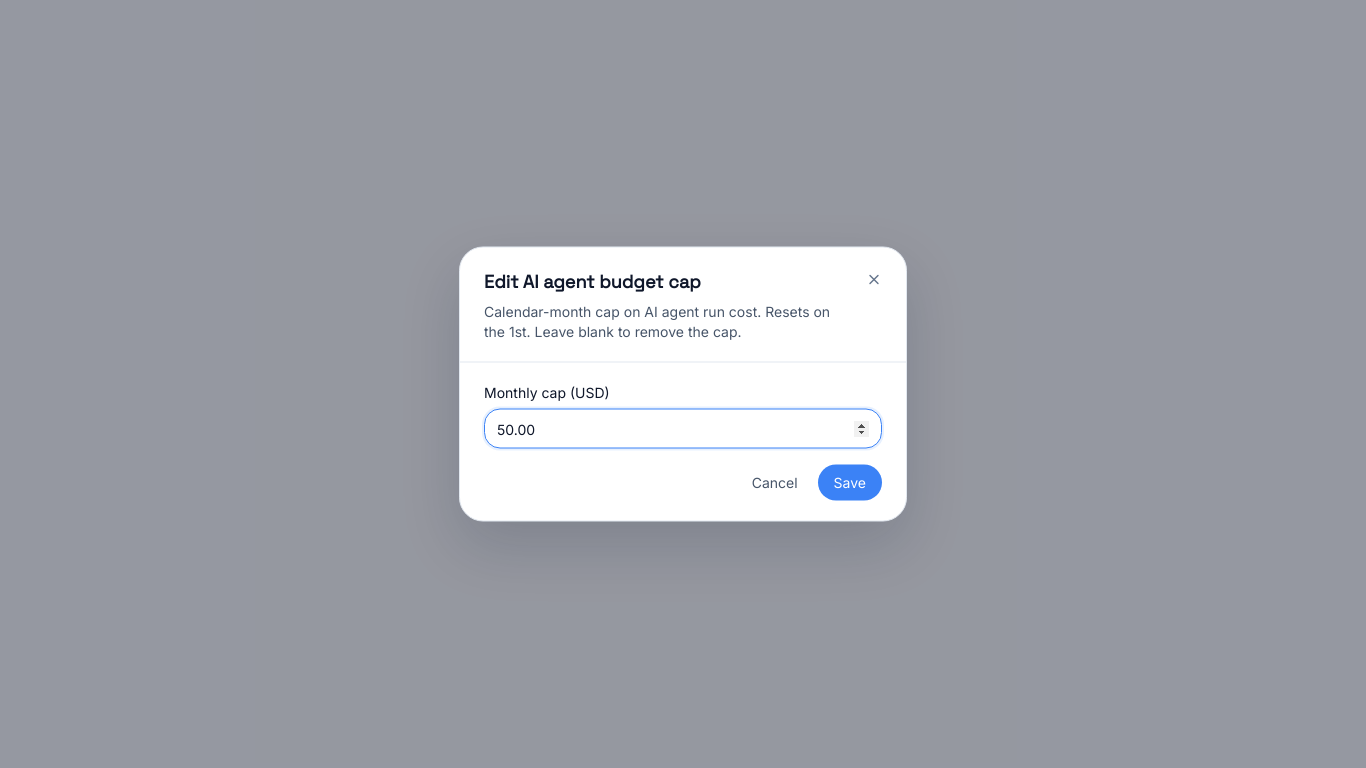
Test case: <EditOrgBudgetCapDialog> › rejects negative values inline without firing the mutation
Type "-5" into the number field with test id "edit-org-budget-cap-input".
click(683, 428); type("-5")  # box [484,408,882,448]
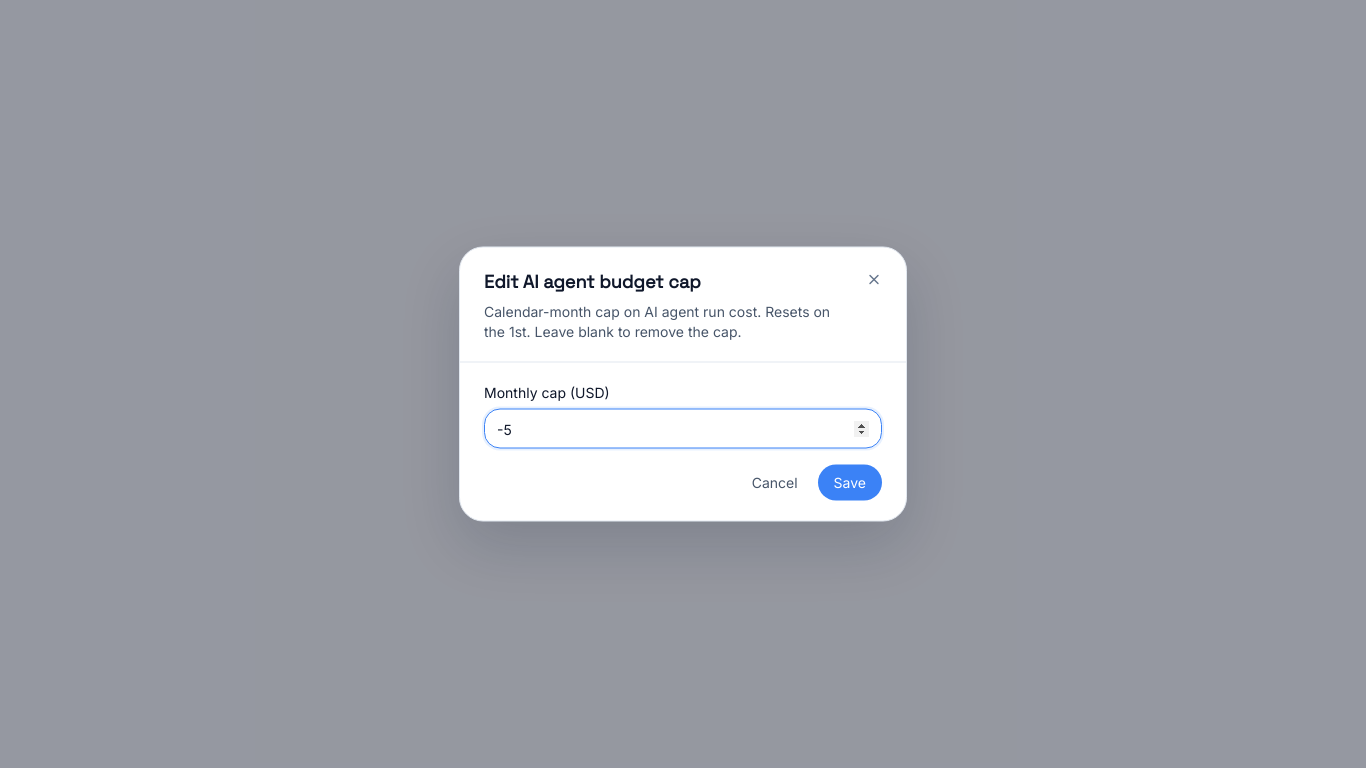
Click the button with test id "edit-org-budget-cap-save".
click(850, 482)  # box [818,464,882,500]
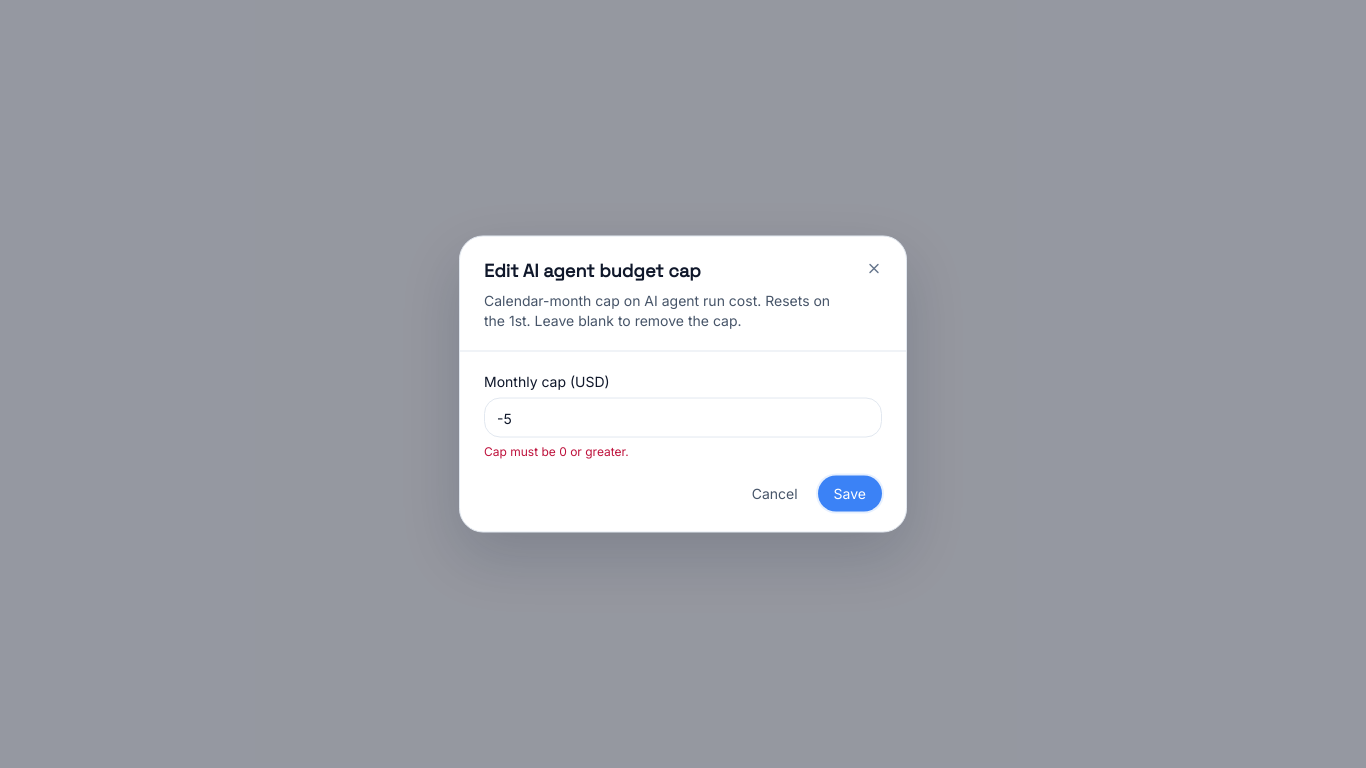
Check: the message shows "0 or greater", box [484,444,629,458]
